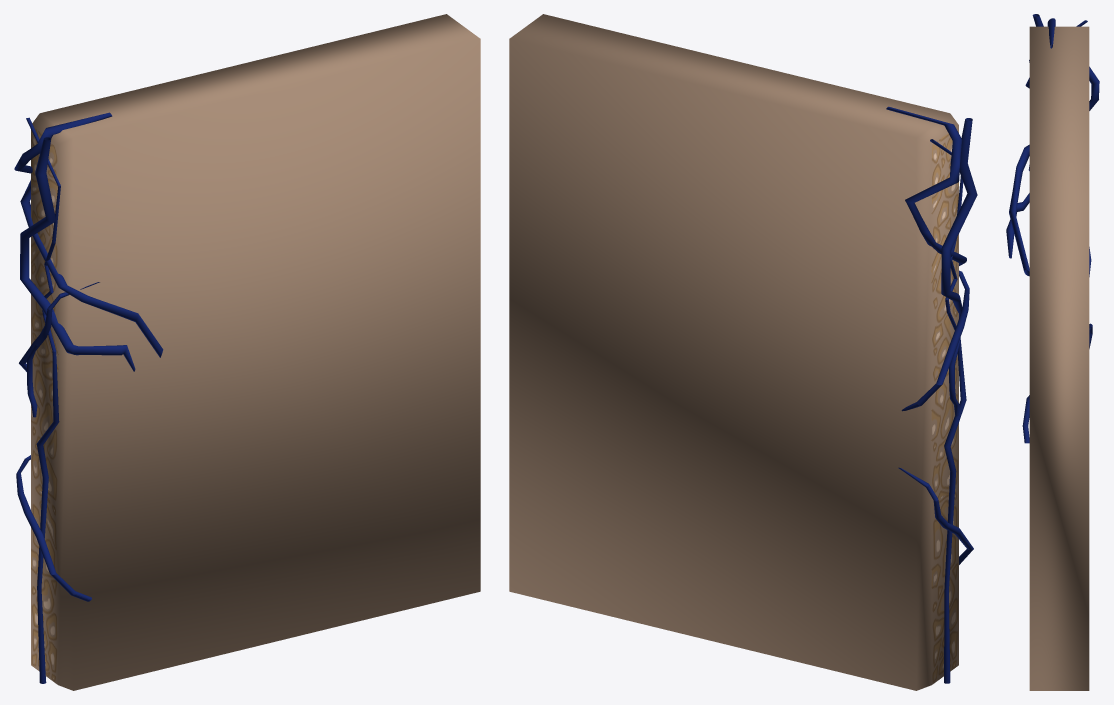
The model's file is porte lianes 1.FBX.
3 views of the same model, side by side, from view 1: azimuth 30°, elevation 25°; view 2: azimuth 150°, elevation 25°; view 3: azimuth 270°, elevation 25° (orthographic). The views are drawn at different scales.
Visible parts, largest first — view 1: Box001; view 2: Box001; view 3: Box001.
Boxes of the visible parts, x1,y1,x2,y2 form: Box001: [14, 14, 480, 690]; Box001: [509, 14, 977, 690]; Box001: [1006, 14, 1099, 690].
Bounding box in the file's own units: 73.82 × 89.33 × 15.33.
2 materials, 2 textured.
